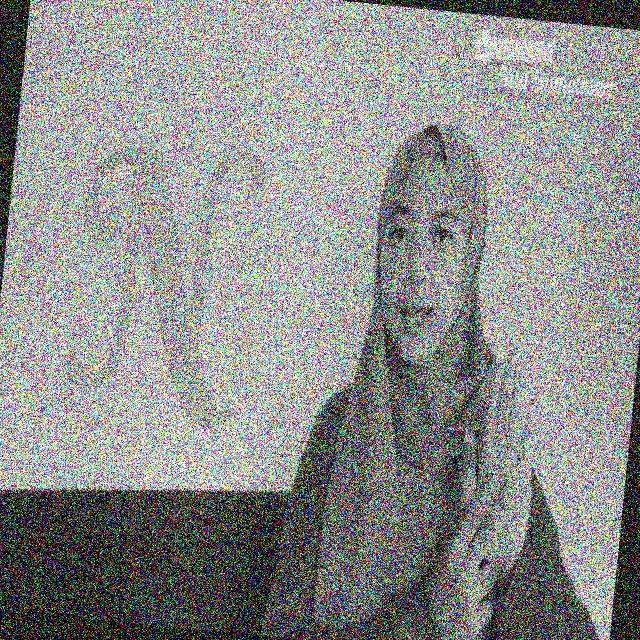N: (439, 362, 548, 580)
